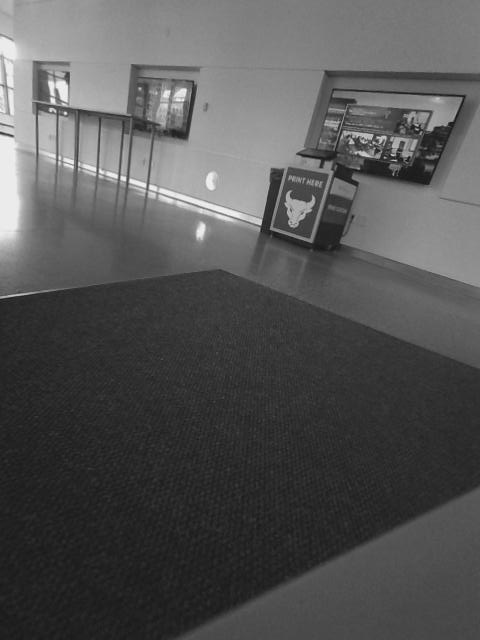ball: (226, 258, 283, 319)
